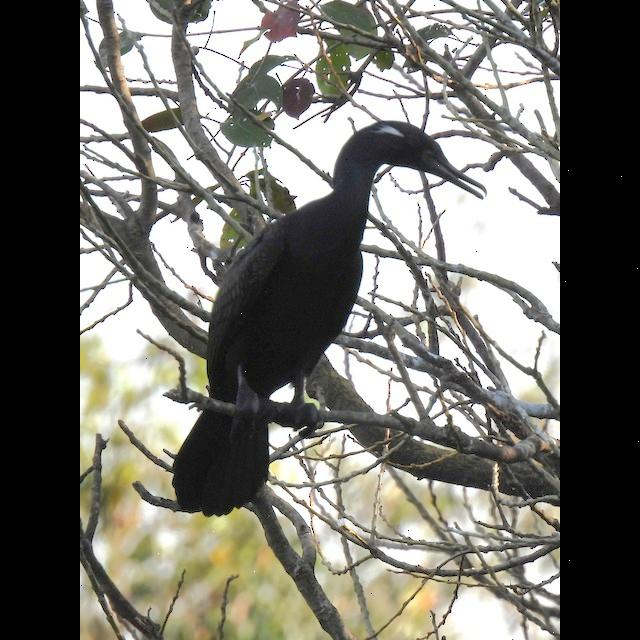cormorant: (145, 115, 488, 519)
